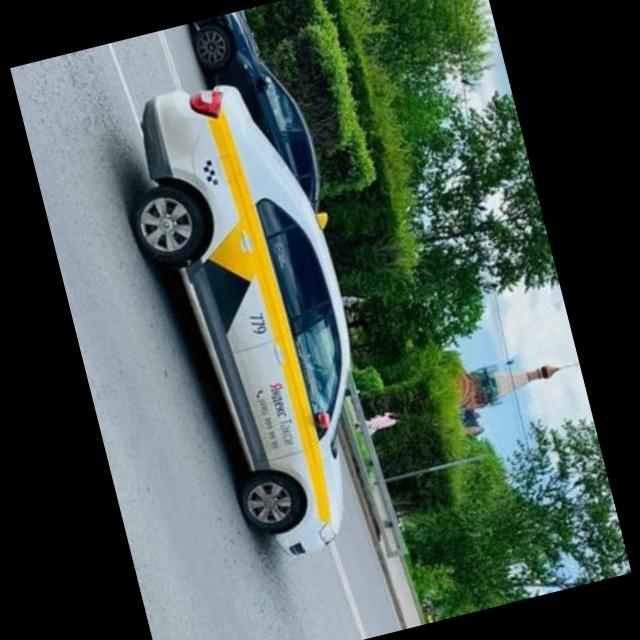taxi: (103, 61, 406, 576)
